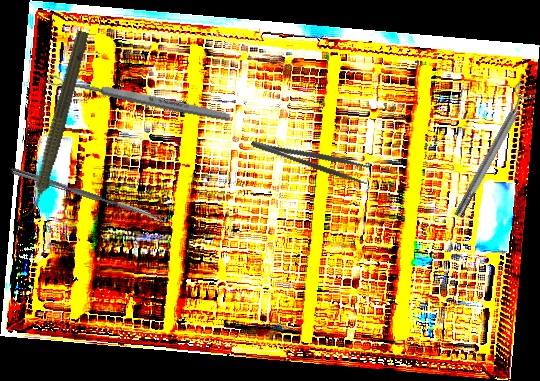Dressing Forceps: (249, 128, 373, 187)
Fixation Ring: (446, 80, 539, 222)
Handpiece: (19, 28, 93, 222)
Surgical Spoon: (46, 72, 232, 124), (8, 166, 168, 225)
